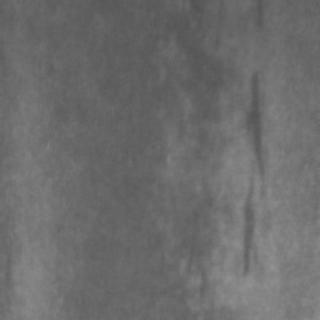inclusion: (227, 64, 267, 184), (233, 172, 260, 284)
